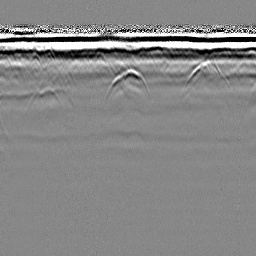cavity: (105, 66, 150, 104)
